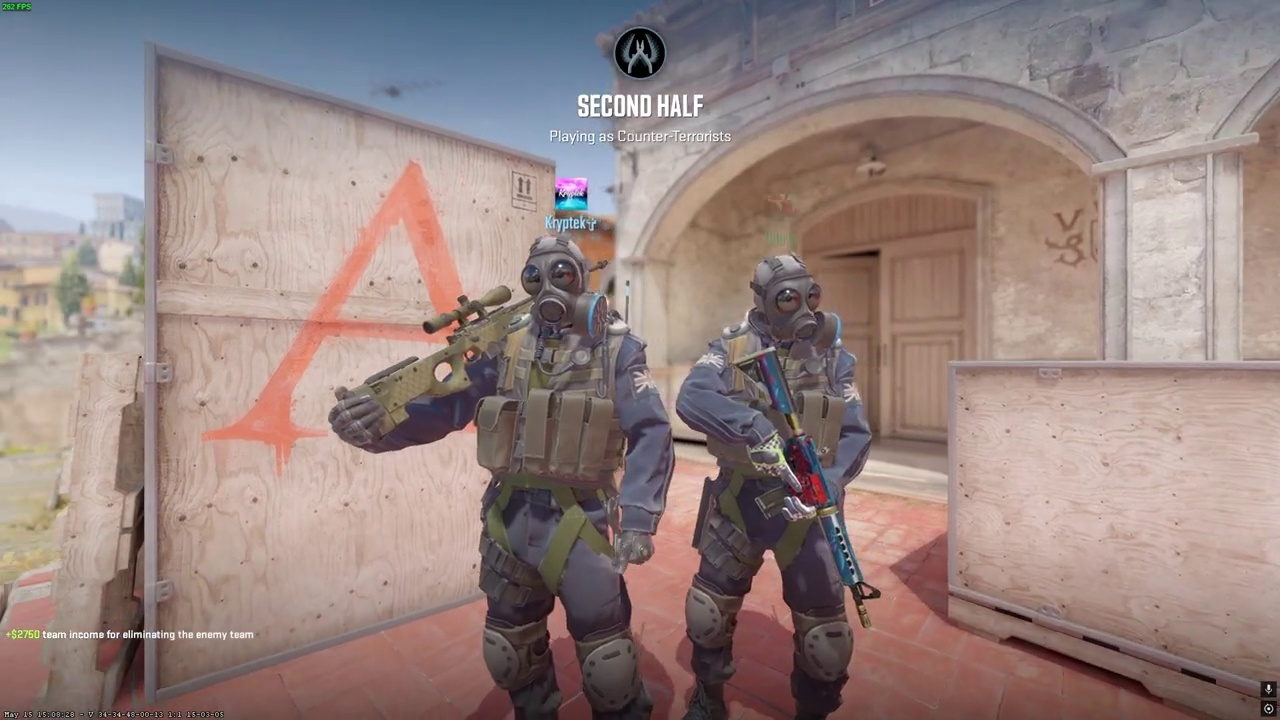CT: (435, 231, 669, 720), (675, 252, 874, 720)
